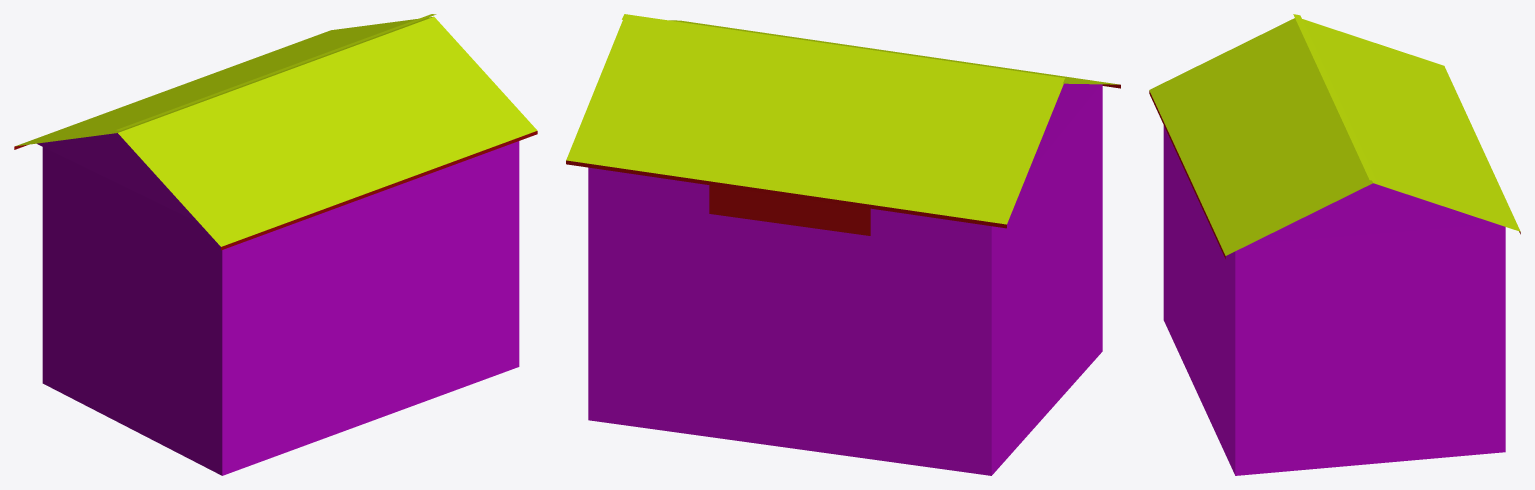
Rendered from scl_58.glb.
3 renders of one model, left to right at view 1: azimuth 30°, elevation 25°; view 2: azimuth 150°, elevation 25°; view 3: azimuth 270°, elevation 25°, orthographic. The views are drawn at different scales.
Parts seen in each view (by area): view 1: scl_58; view 2: scl_58; view 3: scl_58.
Boxes of the visible parts, x1,y1,x2,y2 form: scl_58: [14, 14, 537, 475]; scl_58: [566, 14, 1120, 475]; scl_58: [1149, 14, 1520, 475].
Bounding box in the file's own units: 14.61 × 10.39 × 12.05.
